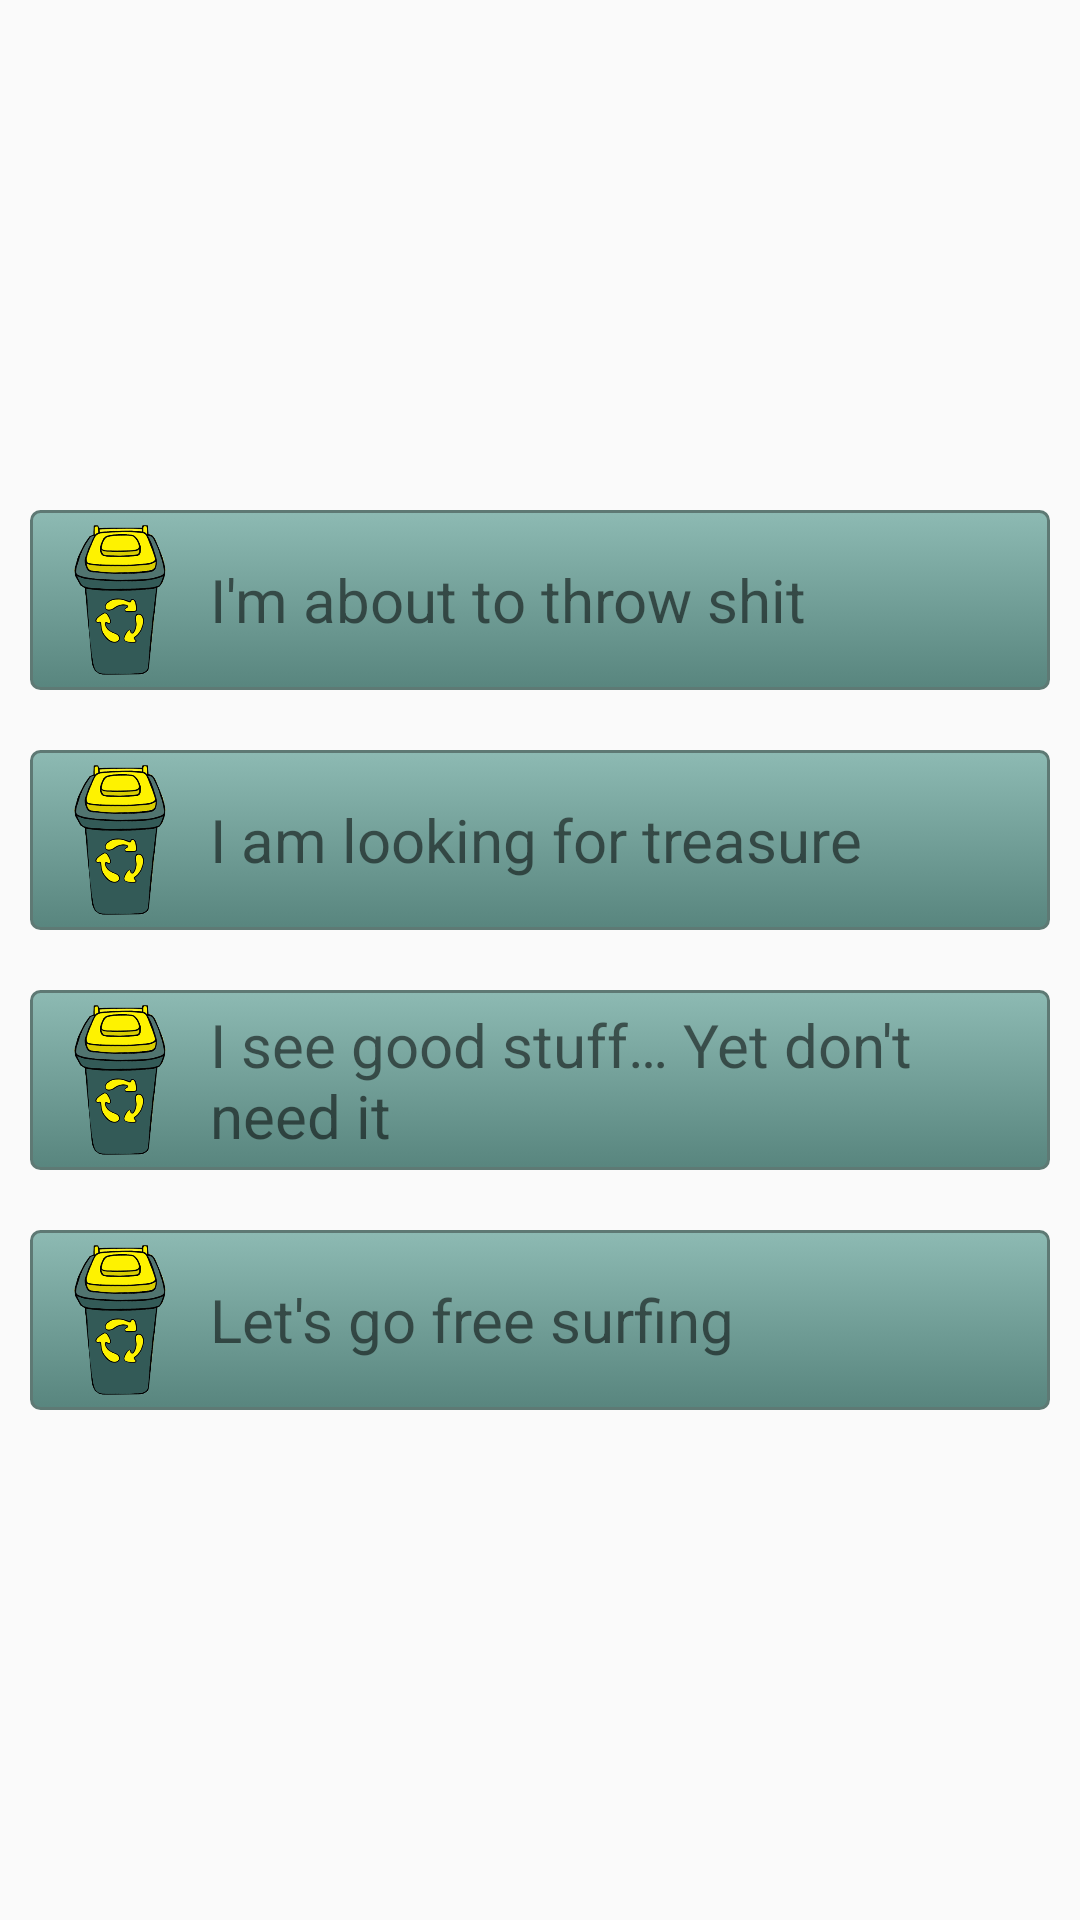

Icon click points for this 1080 x 1920 phone screenshot, format (x=x, y=y):
bin: (x=120, y=600), (x=120, y=840), (x=120, y=1080), (x=120, y=1320)
